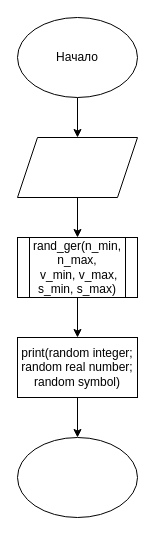
Image size: 155x535. Some labels were removed from this diagram. The box of each missing label's shape, as (x1, y1, x2, y2) in pixels:
n_min, n_max, v_min, v_max, s_min, s_max: (16, 136, 138, 198)
Конец: (16, 436, 138, 518)
